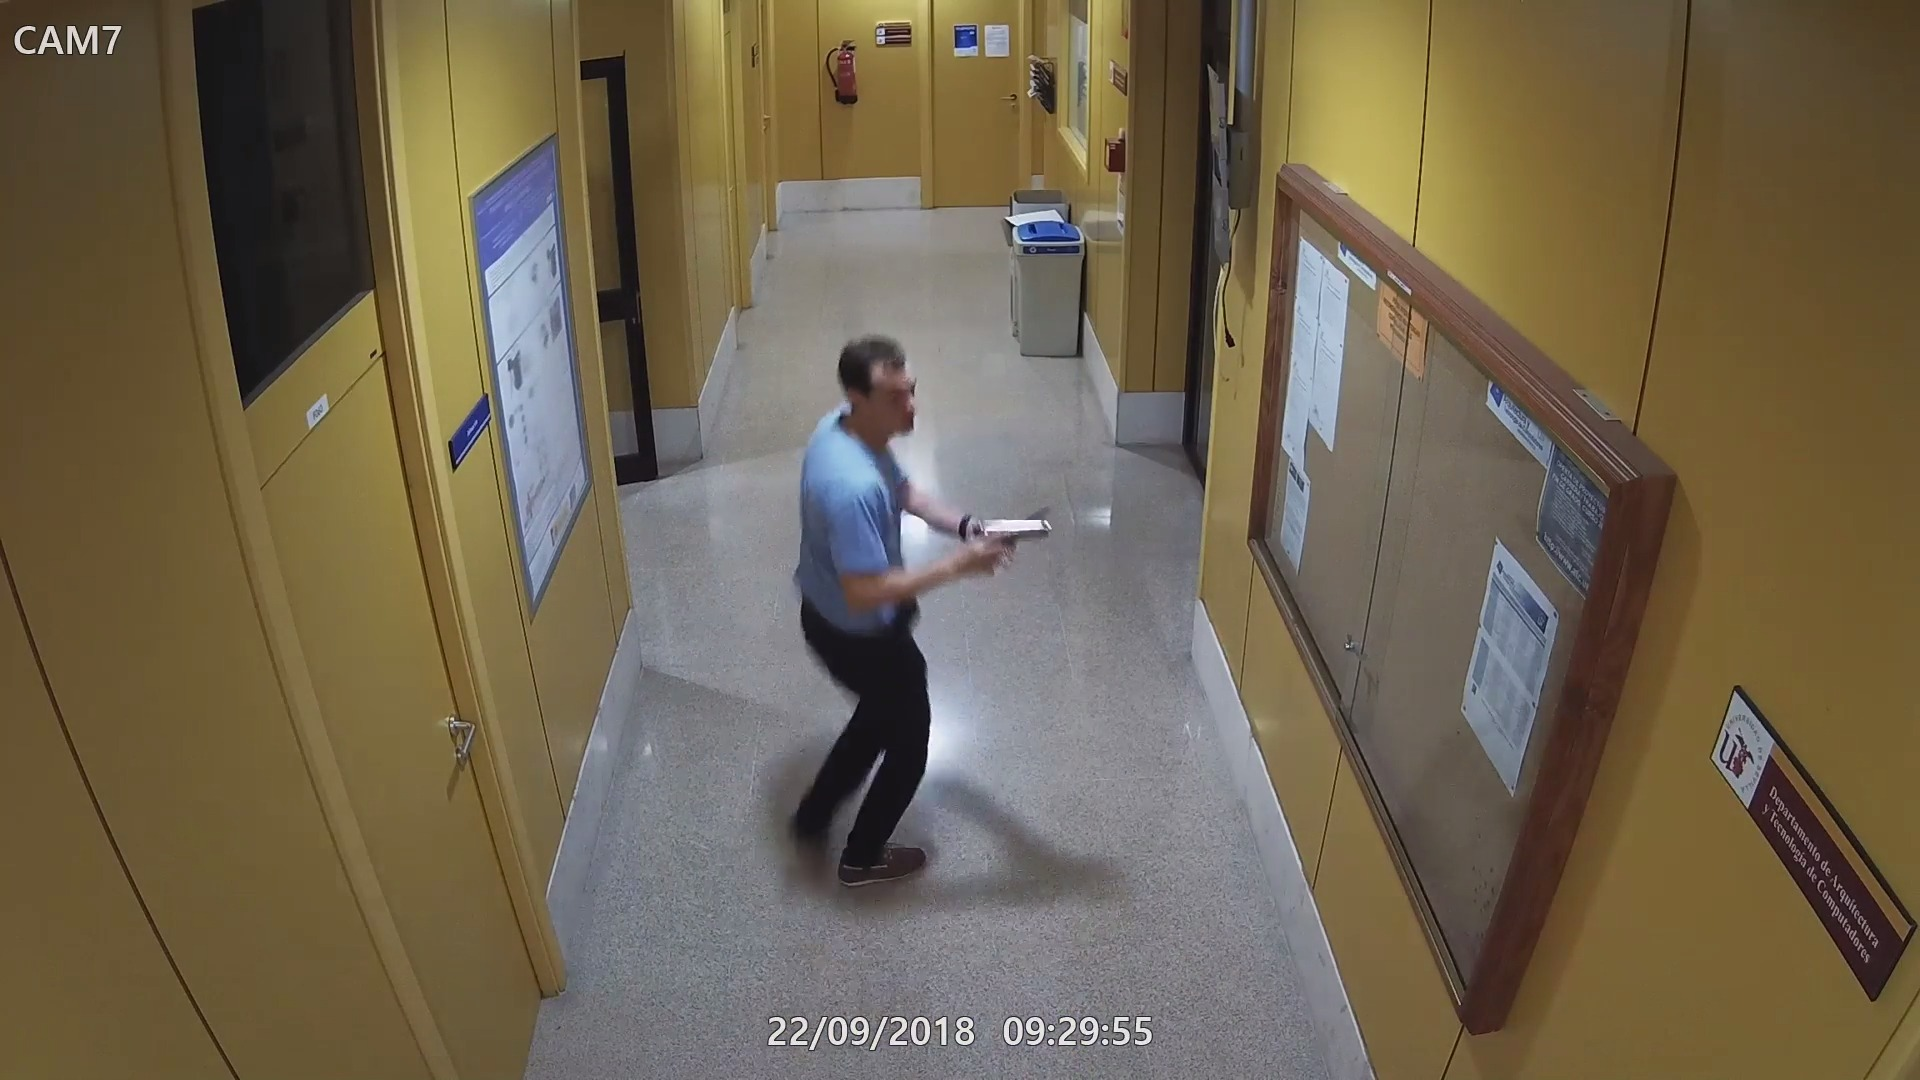knife: (1025, 498, 1062, 522)
pistol: (961, 514, 1051, 576)
